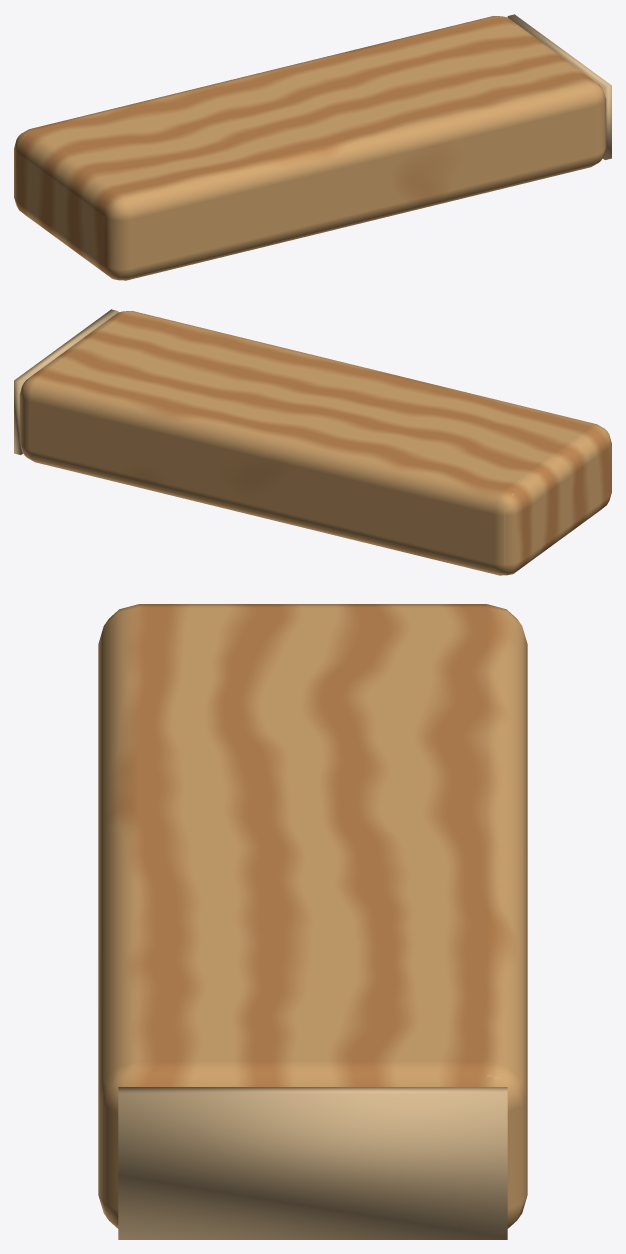
The model's file is item_plank.glb.
3 renders of one model, top to bottom at view 1: azimuth 30°, elevation 25°; view 2: azimuth 150°, elevation 25°; view 3: azimuth 270°, elevation 25°, orthographic. The views are drawn at different scales.
Parts seen in each view (by area): view 1: end; view 2: end; view 3: end.
Part boxes in pixels (box(x1,y1,x2,y2)): end: box(14, 14, 611, 280); end: box(14, 309, 611, 575); end: box(98, 604, 527, 1239).
Bounding box in the file's own units: 0.866 × 0.14 × 0.32.
Materials: 1 (1 with a texture image).
